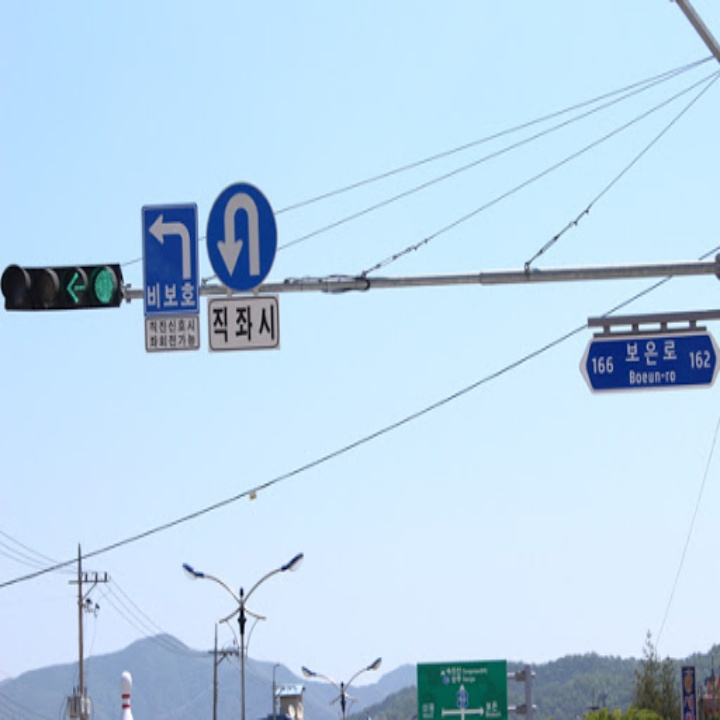left: (145, 208, 198, 283)
